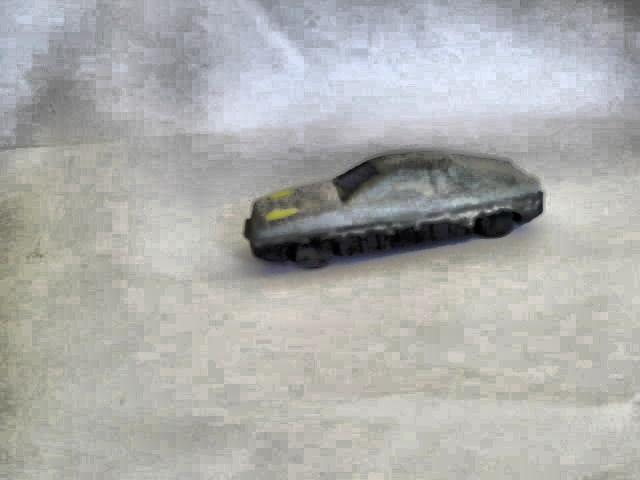normal_car: (231, 144, 552, 278)
